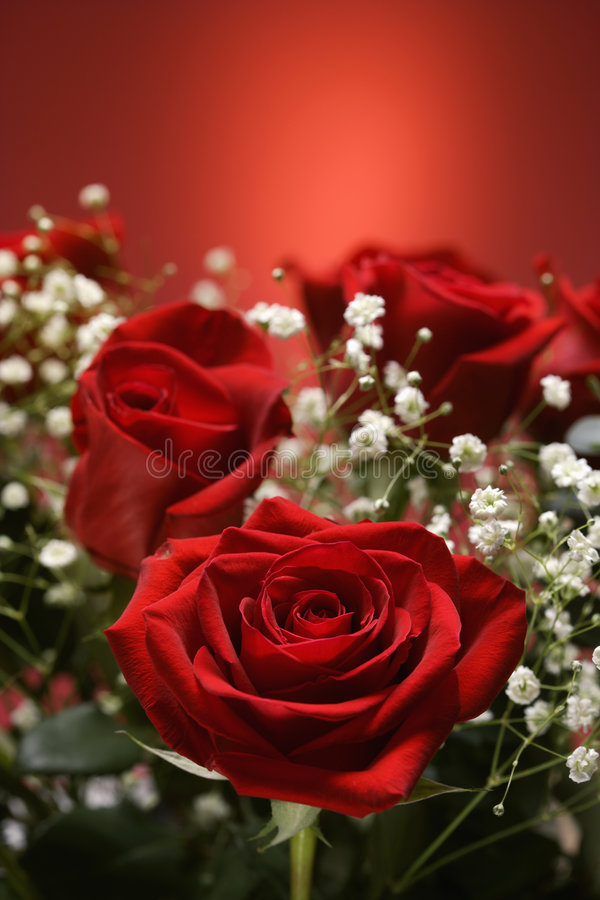RedRose: (115, 506, 551, 819), (64, 272, 292, 578), (288, 212, 535, 491), (517, 205, 599, 442)
